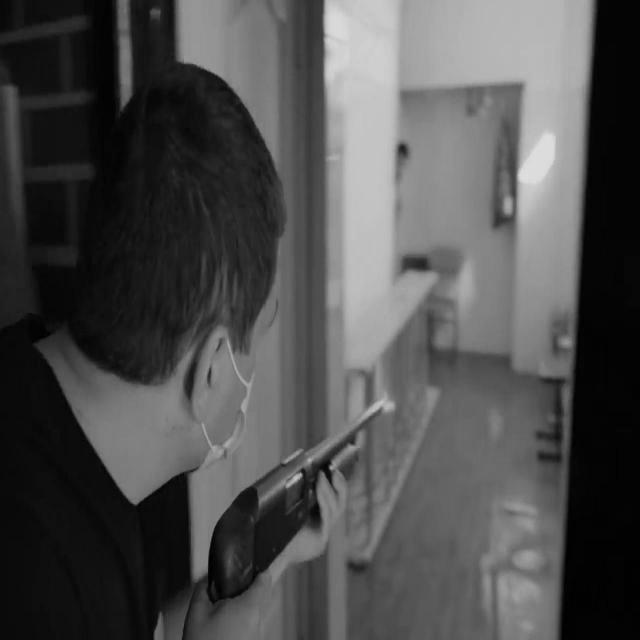gun: (206, 399, 384, 605)
person with a gun: (0, 64, 392, 640)
